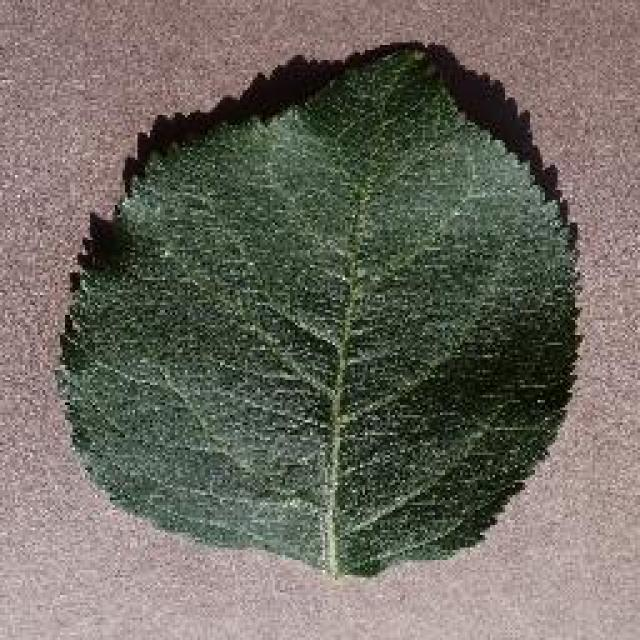apple healthy: (53, 38, 585, 580)
